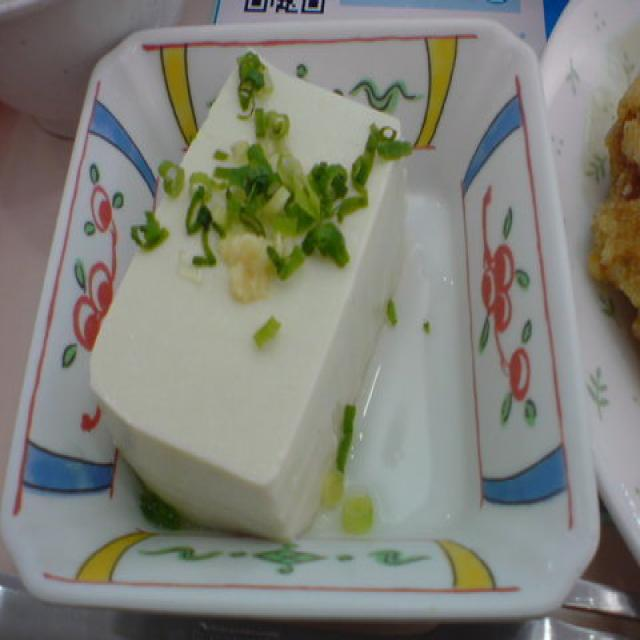豆腐料理: (0, 7, 592, 640)
